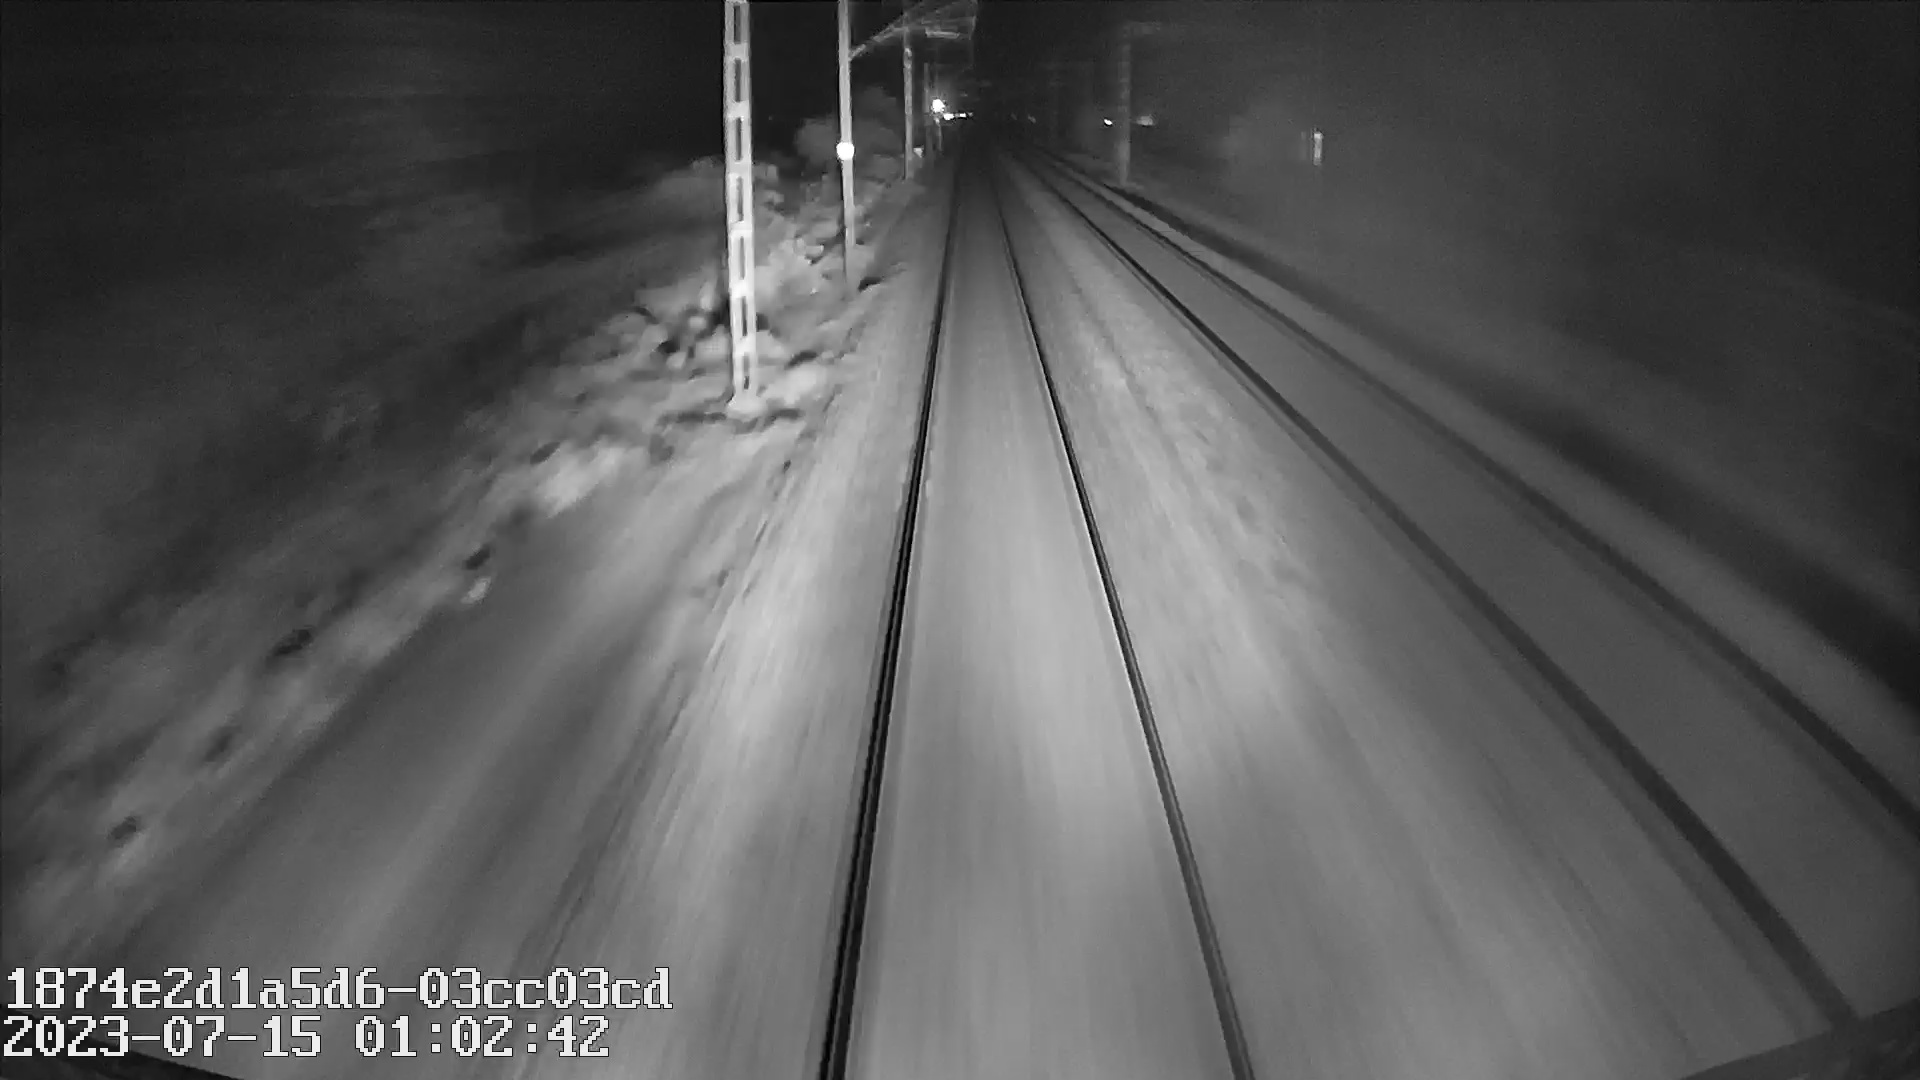track1: (833, 162, 1241, 1061)
track2: (1049, 174, 1904, 986)
